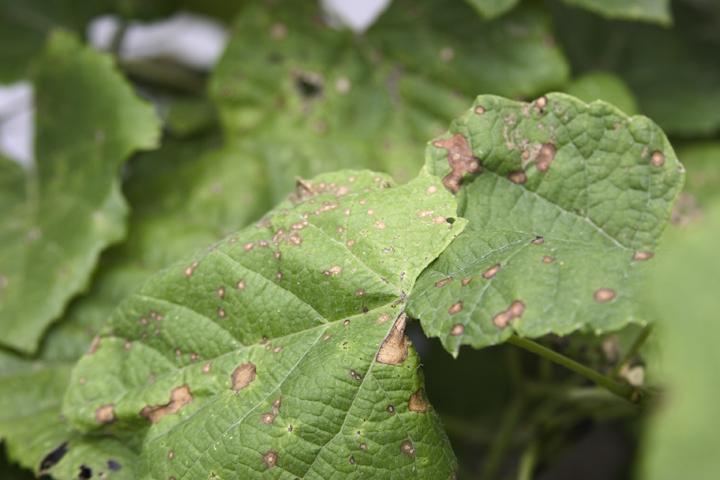grape leaf: (53, 140, 475, 480), (407, 85, 709, 375)
